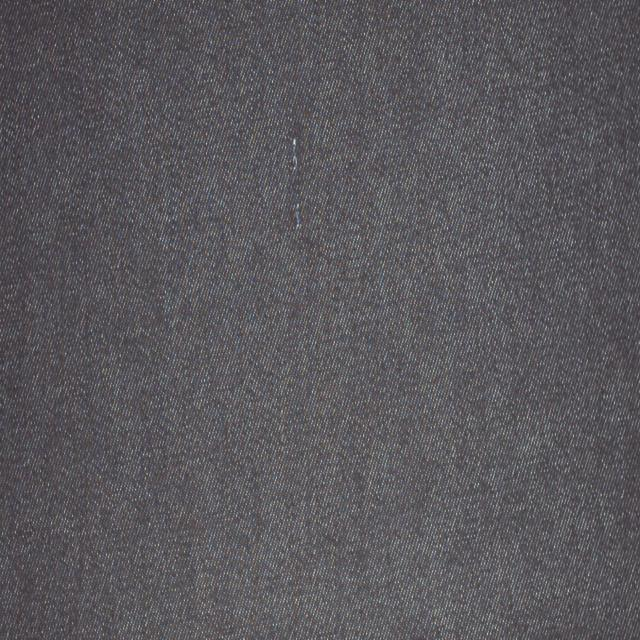Knot: (291, 137, 299, 172), (295, 202, 302, 228)
